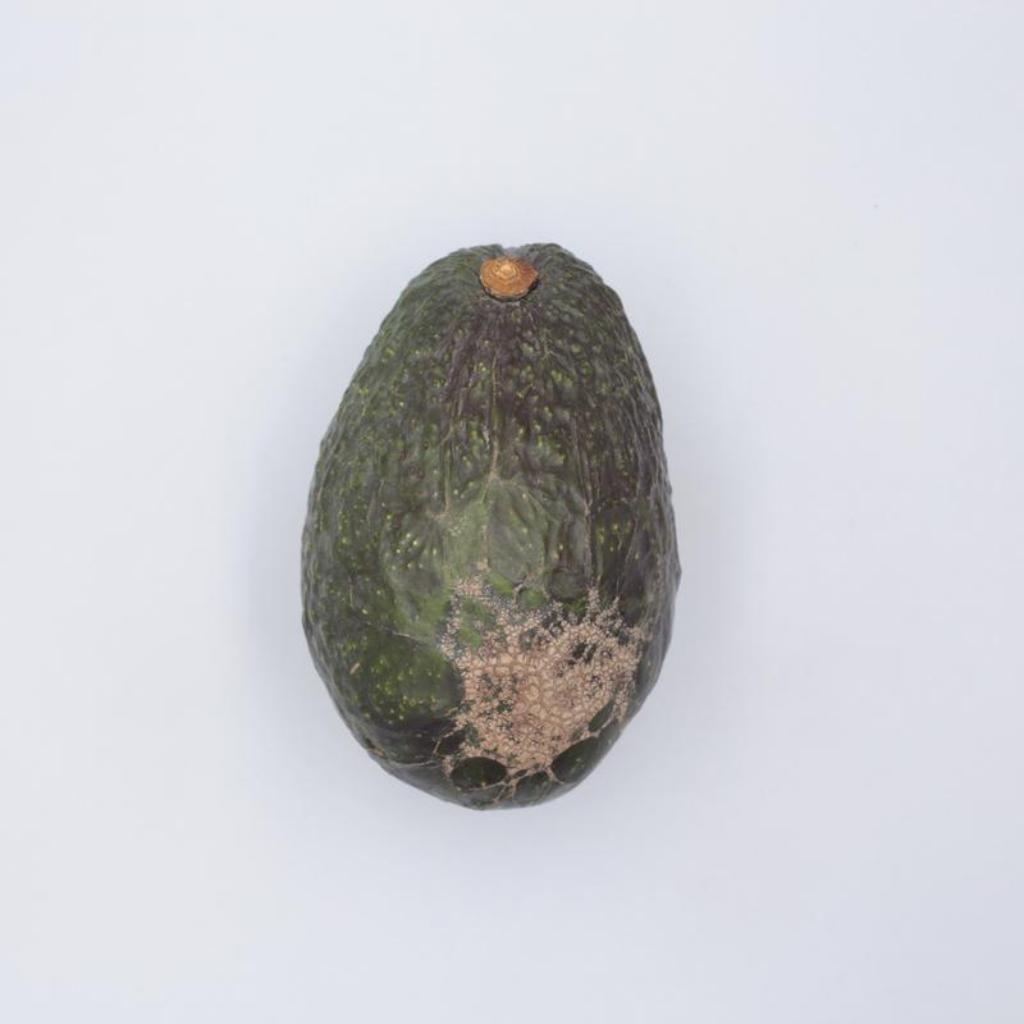scab: (302, 244, 678, 806)
